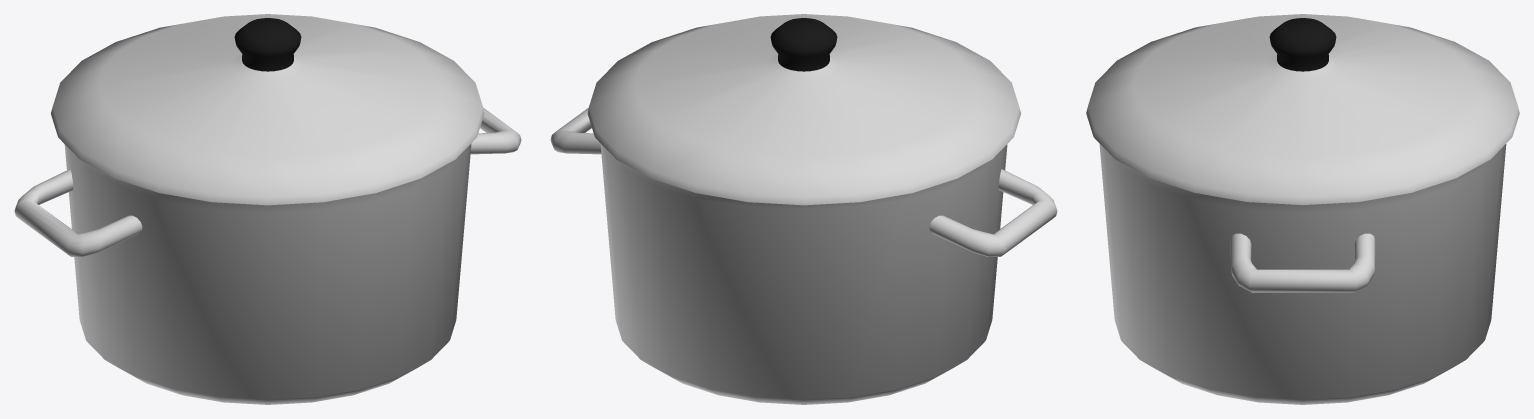
The model's file is Pot.fbx.
The picture shows the model from 3 angles, left to right: view 1: azimuth 30°, elevation 25°; view 2: azimuth 150°, elevation 25°; view 3: azimuth 270°, elevation 25°; orthographic projection.
Visible parts, largest first — view 1: Pot; view 2: Pot; view 3: Pot.
Part boxes in pixels (x1=…): Pot: x1=14, y1=14, x2=521, y2=404; Pot: x1=550, y1=14, x2=1057, y2=404; Pot: x1=1086, y1=14, x2=1519, y2=404.
Size of the model in its own units: 37.85 by 24.36 by 31.35.
